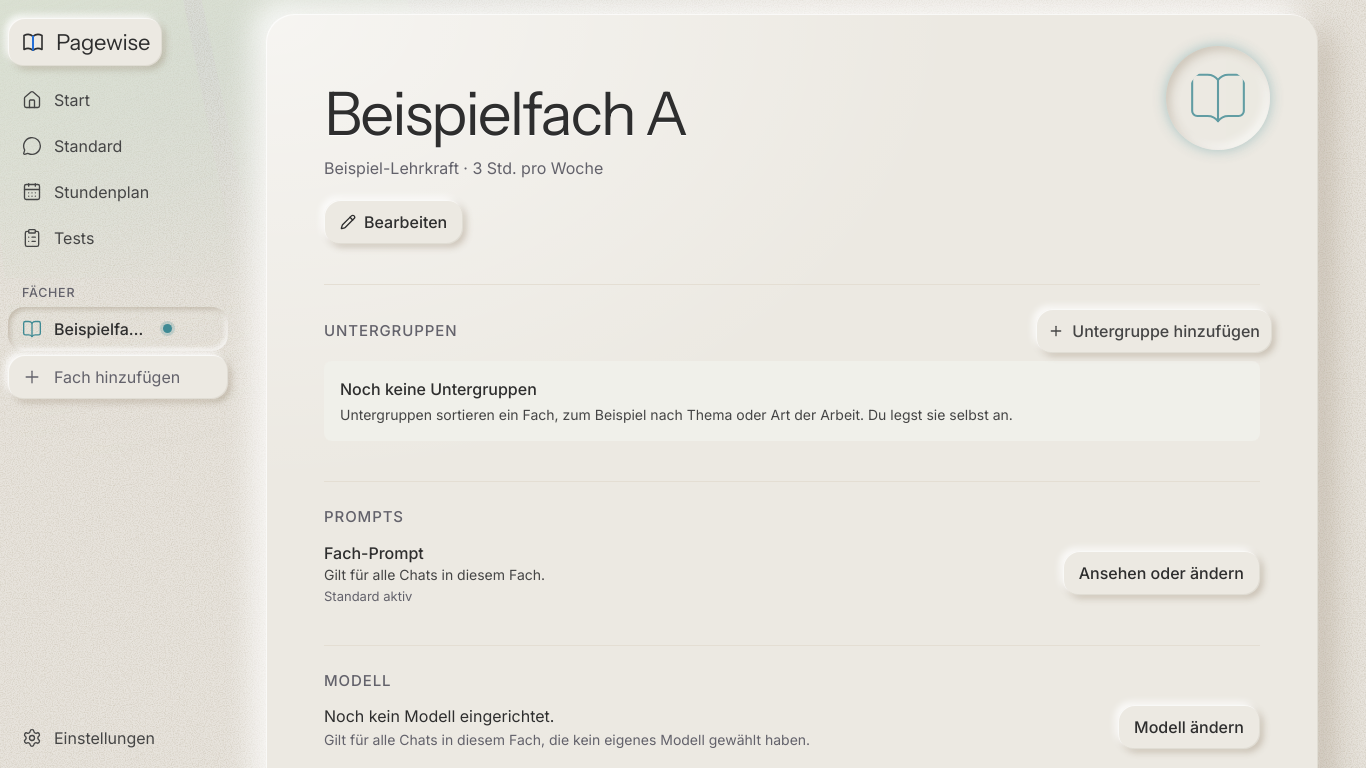
Test case: Fach bearbeiten und löschen › löscht erst nach Rückfrage und geht zur Startseite
The width and height of the screenshot is (1366, 768).
Click the button "Bearbeiten" at (394, 222), box [324, 200, 463, 244]
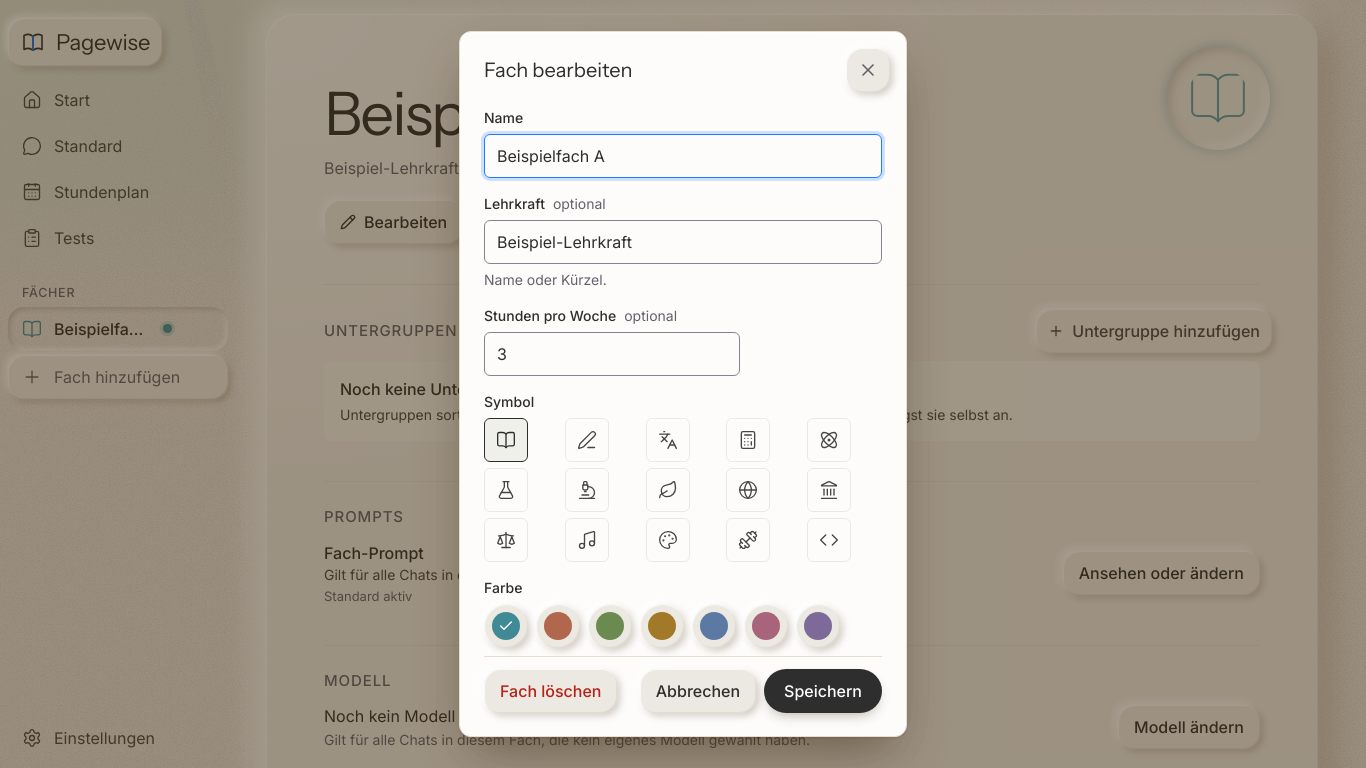
Click the button "Fach löschen" at (551, 690), box [484, 668, 618, 712]
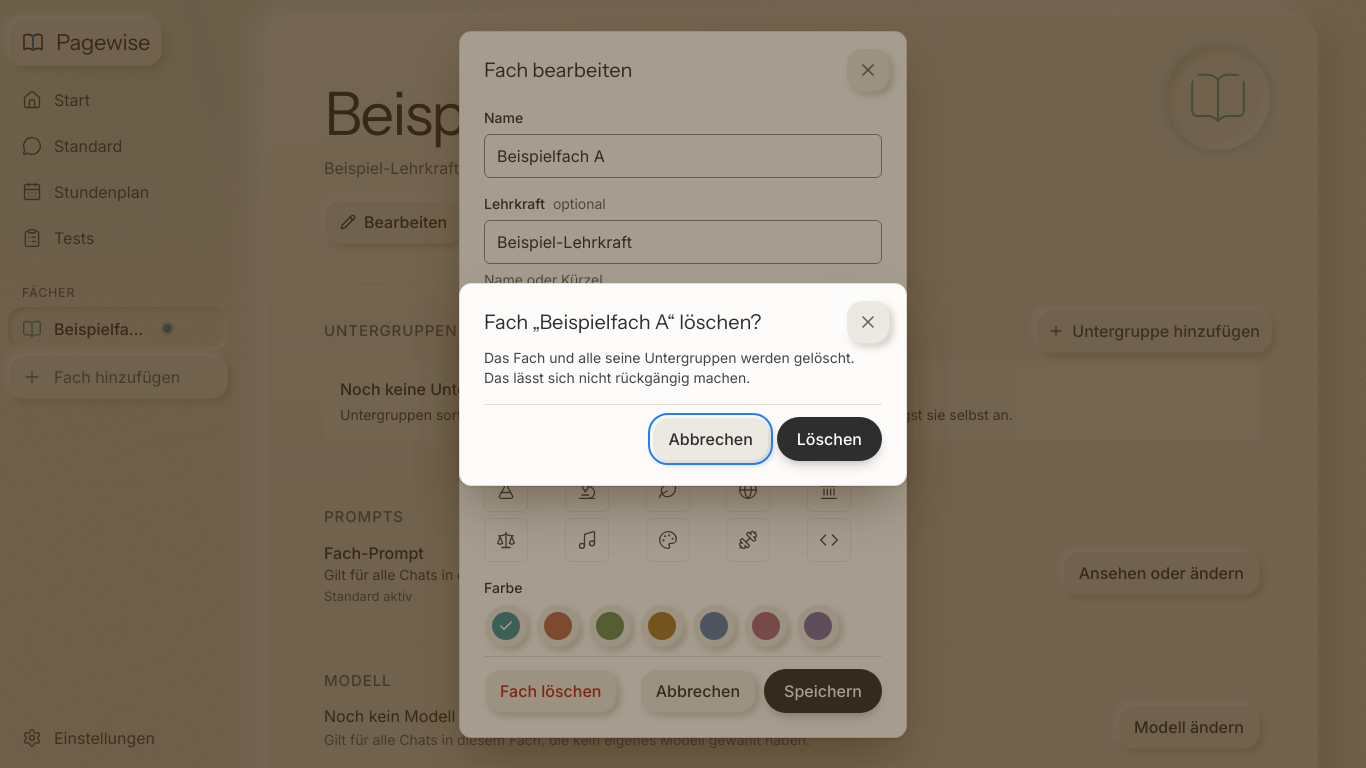
Result: the text "Das lässt sich nicht rückgängig machen" is shown at [484, 348, 855, 386]
// Abbrechen löscht nichts.
Click the button "Abbrechen" at (711, 438), box [652, 416, 769, 460]
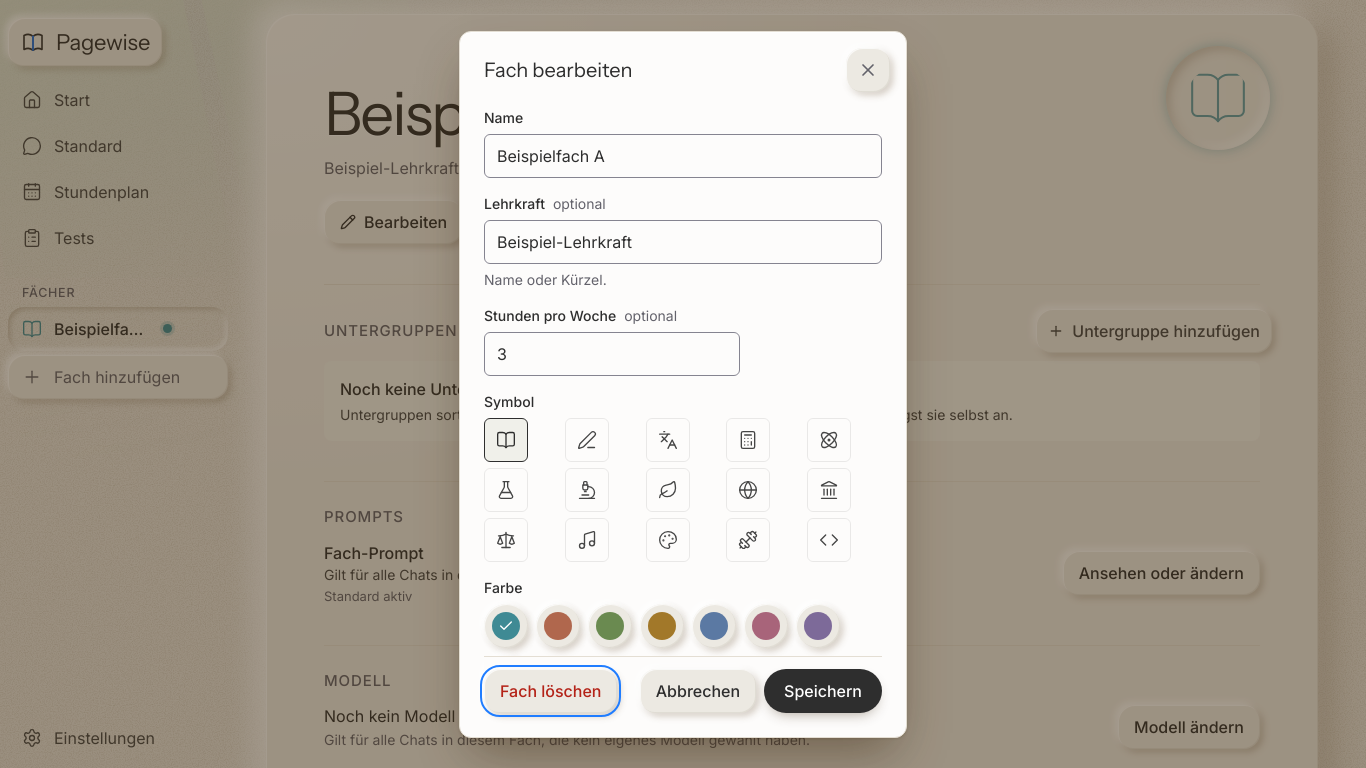
Result: the dialog "Fach bearbeiten" is shown at [459, 31, 907, 737]
Result: the heading "löschen?" is gone
Click the button "Fach löschen" at (551, 690), box [484, 668, 618, 712]
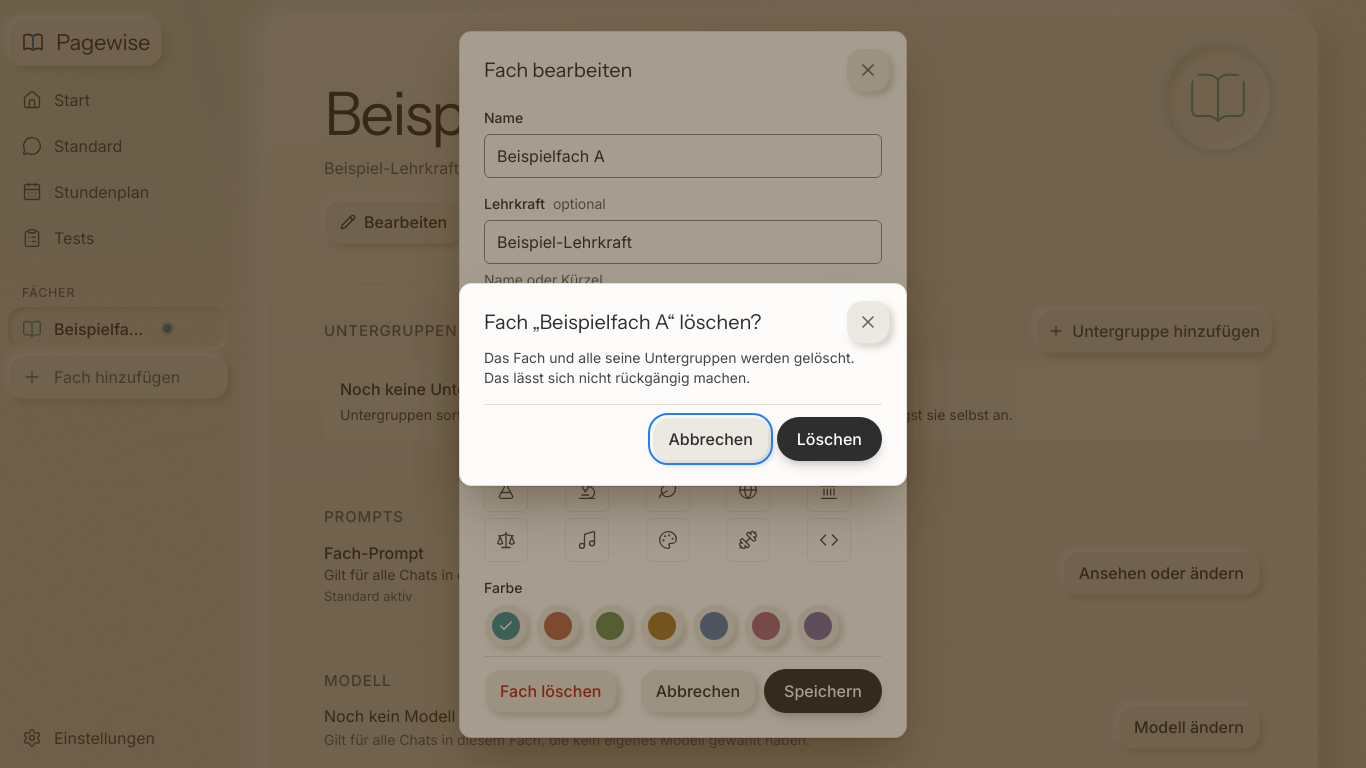
Click the button "Löschen" at (829, 438), box [777, 416, 882, 460]
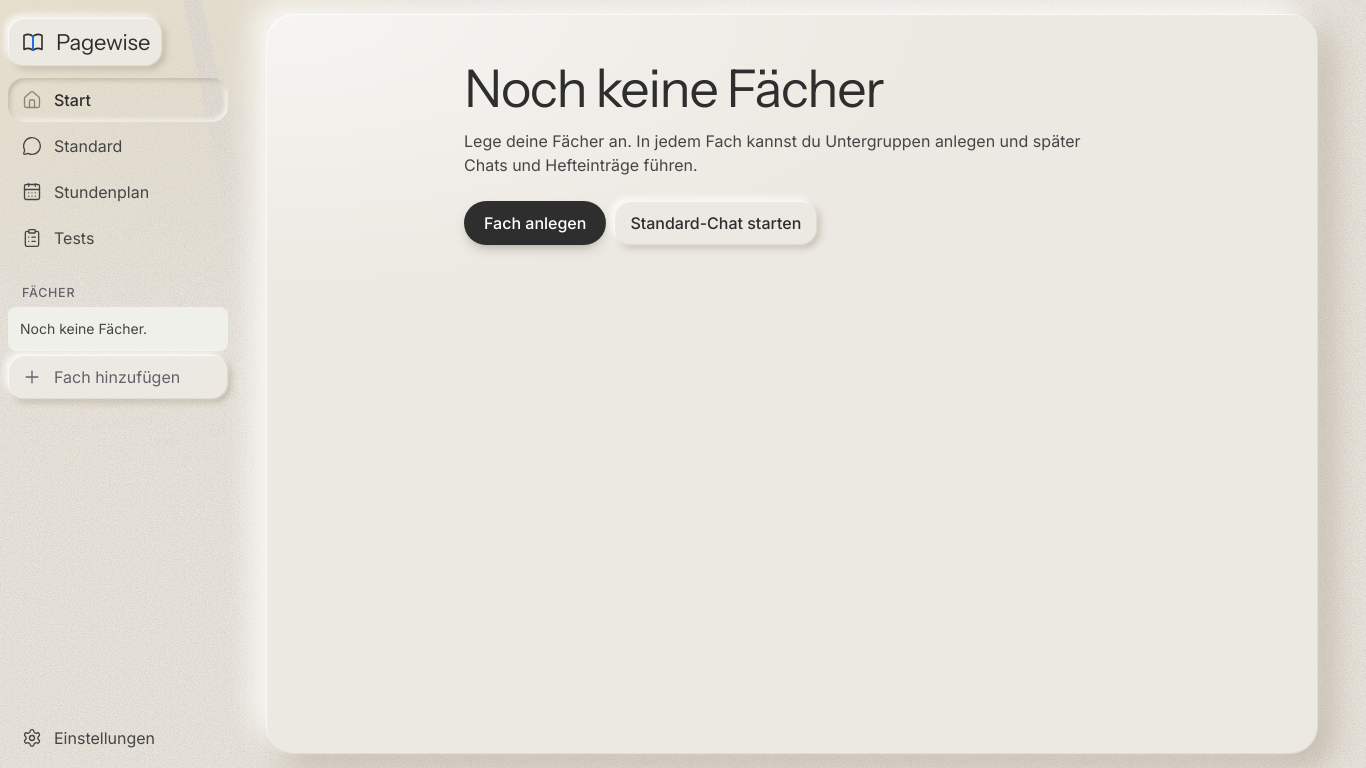
Result: the heading "Noch keine Fächer" is shown at [464, 57, 883, 120]
Result: the dialog is gone
